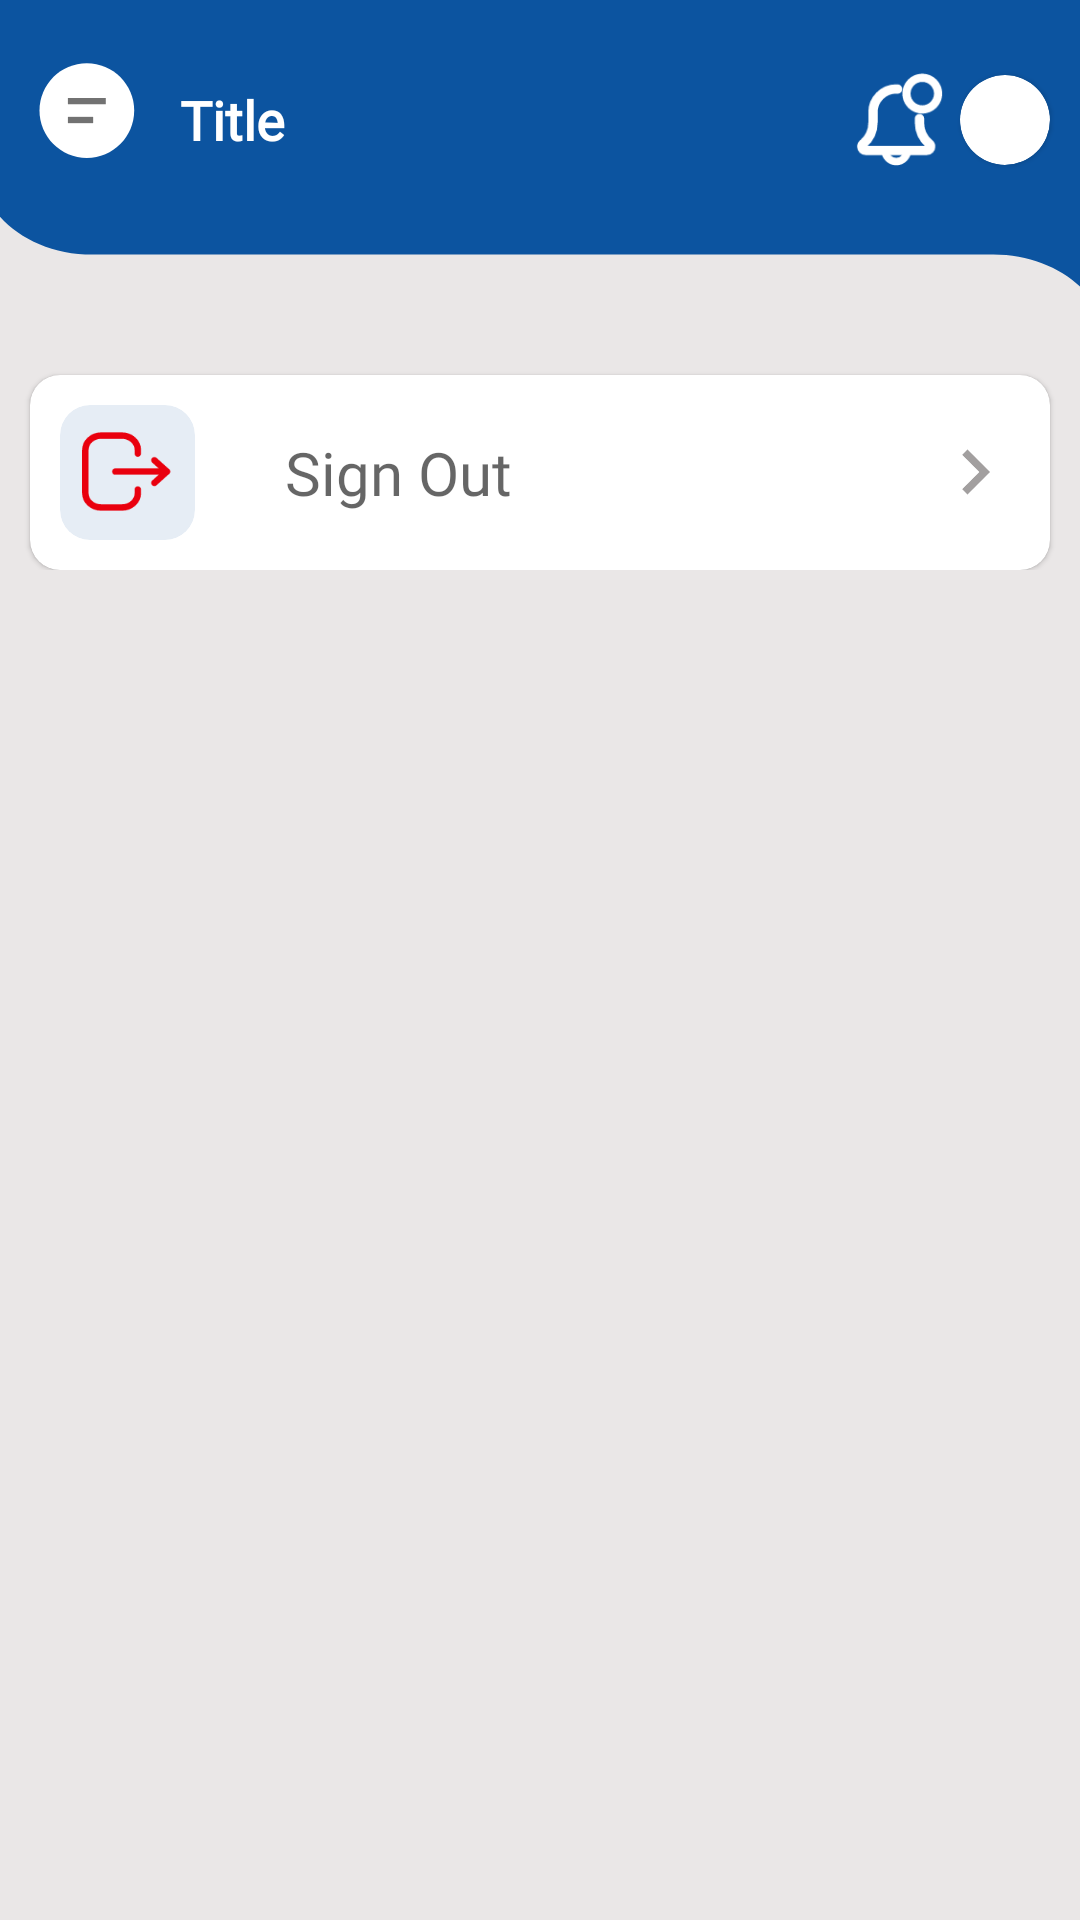

Point at icon controls on the screen. Image size 1080px×1920px, points as (x,y).
menu: (87,110)
next: (976,472)
notification: (900,119)
